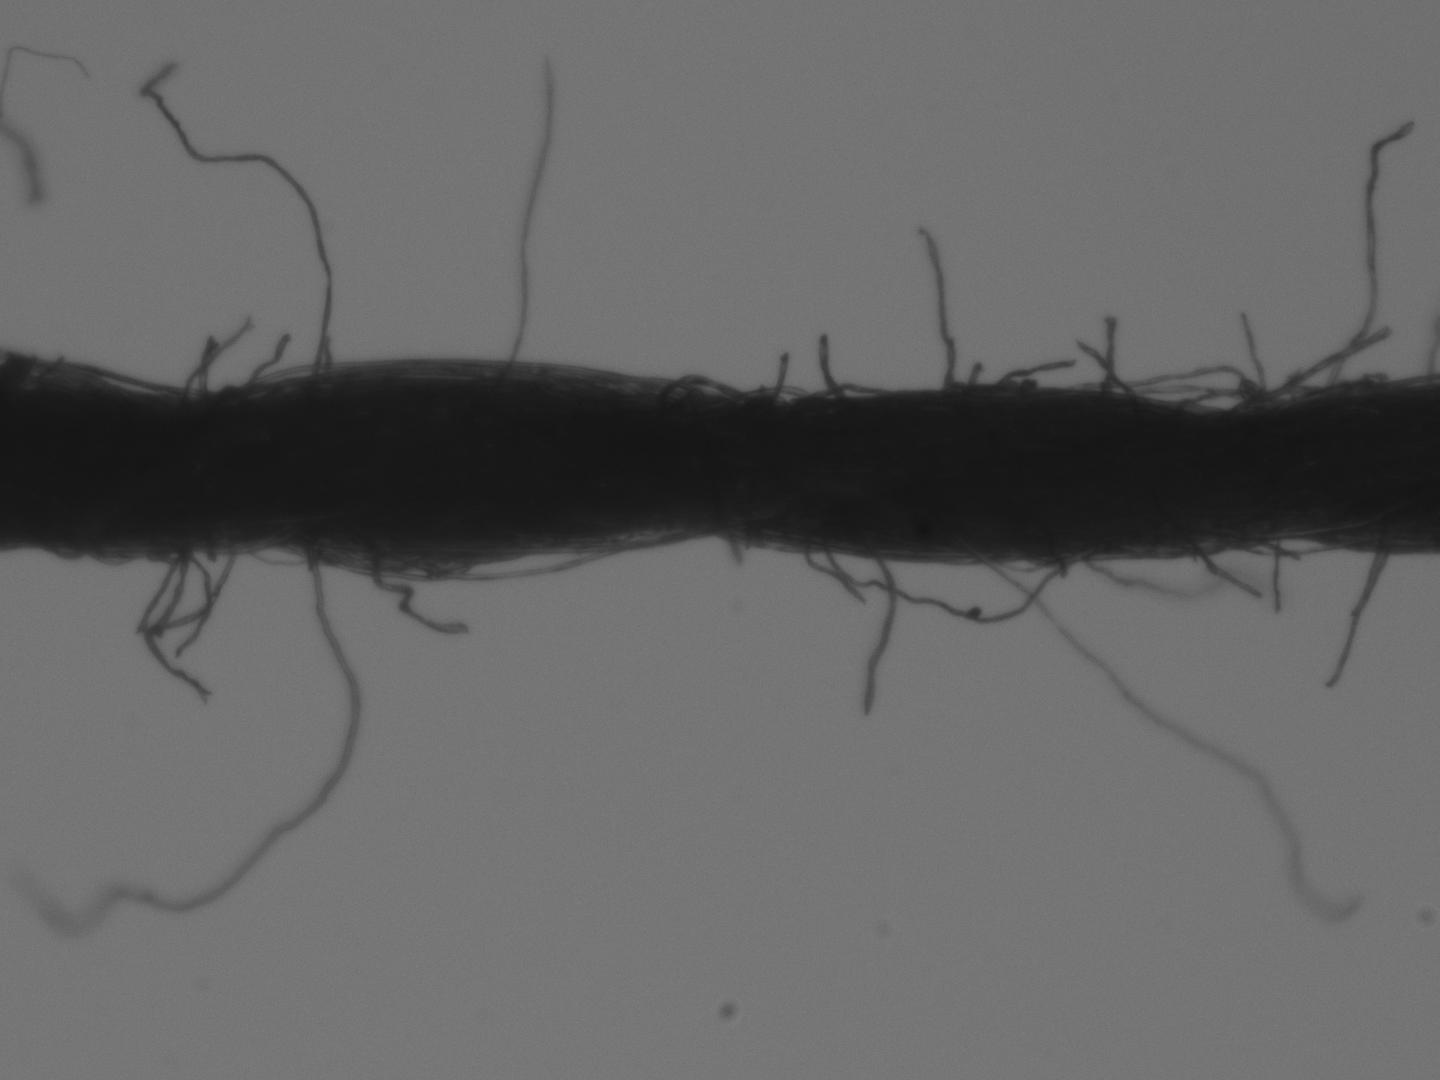loop_fiber: (801, 551, 1067, 623), (1077, 361, 1262, 407), (397, 545, 598, 585), (562, 524, 710, 555), (69, 363, 179, 395), (661, 368, 736, 407), (373, 548, 471, 577), (1129, 388, 1263, 406), (1176, 385, 1272, 410), (798, 379, 875, 405), (1236, 537, 1333, 555), (742, 382, 825, 403), (315, 555, 420, 571)
protruding_fiber: (35, 554, 359, 927), (139, 61, 338, 380), (1330, 118, 1417, 382), (506, 61, 558, 374), (1270, 320, 1394, 398), (917, 223, 955, 398), (1330, 554, 1379, 683), (867, 557, 891, 714), (816, 335, 842, 403), (1100, 318, 1118, 391), (772, 353, 791, 402)
